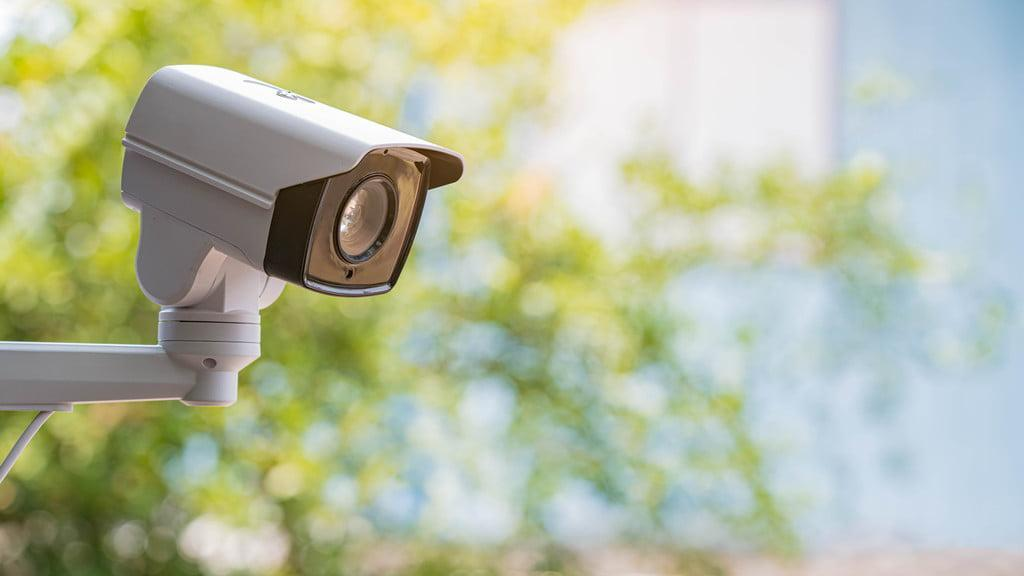camera: (103, 41, 477, 374)
